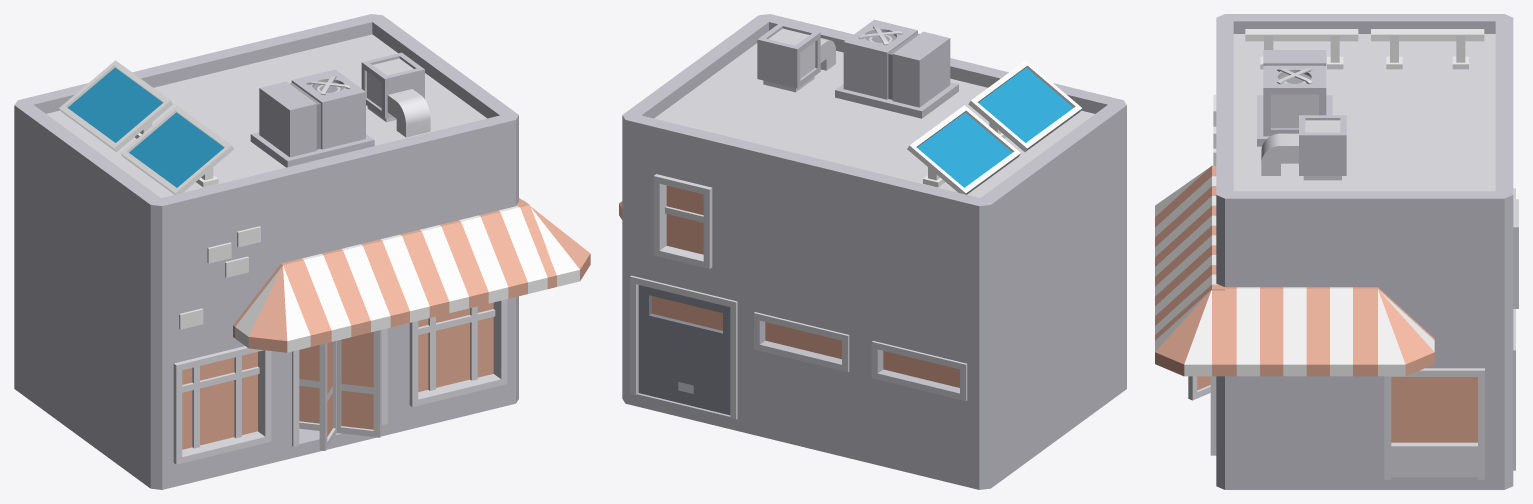
File: house.glb
3 renders of one model, left to right at view 1: azimuth 30°, elevation 25°; view 2: azimuth 150°, elevation 25°; view 3: azimuth 270°, elevation 25°, orthographic. The views are drawn at different scales.
Parts seen in each view (by area): view 1: wall_windowLarge_245, wall_windowLarge_244, wall_straight_216, wall_doorRevolving_231, awning_straight_238, awning_straight_239, wall_straight_215, detail_airLarge_227, roof_corner_223, wall_straight_210, wall_straight_271, wall_straight_214 (+17 smaller); view 2: wall_straight_213, wall_straight_212, wall_window_275, wall_windowFactory_273, wall_windowFactory_274, wall_garageDoorClosed_272, roof_corner_225, roof_side_226, wall_straight_210, wall_straight_214, detail_airLarge_227, roof_corner_224 (+12 smaller); view 3: wall_windowStore_276, wall_straight_220, wall_straight_205, awning_straight_241, roof_corner_225, roof_corner_221, roof_corner_224, wall_straight_219, roof_side_226, roof_corner_223, detail_airLarge_227, awning_corner_242 (+15 smaller).
Boxes of the visible parts, <box> form: wall_windowLarge_245: <box>150,337,279,477</box>; wall_windowLarge_244: <box>398,296,518,419</box>; wall_straight_216: <box>162,202,279,353</box>; wall_doorRevolving_231: <box>280,326,397,450</box>; awning_straight_238: <box>292,232,439,344</box>; awning_straight_239: <box>410,200,555,315</box>; wall_straight_215: <box>82,180,162,354</box>; detail_airLarge_227: <box>250,69,374,167</box>; roof_corner_223: <box>82,149,282,230</box>; wall_straight_210: <box>14,253,82,426</box>; wall_straight_271: <box>82,303,150,475</box>; wall_straight_214: <box>14,130,82,302</box>; wall_straight_213: <box>861,202,990,353</box>; wall_straight_212: <box>743,173,861,325</box>; wall_window_275: <box>625,144,743,296</box>; wall_windowFactory_273: <box>743,297,861,448</box>; wall_windowFactory_274: <box>861,325,979,477</box>; wall_garageDoorClosed_272: <box>625,268,743,419</box>; roof_corner_225: <box>622,64,820,172</box>; roof_side_226: <box>743,105,927,201</box>; wall_straight_210: <box>979,303,1058,477</box>; wall_straight_214: <box>979,180,1058,354</box>; detail_airLarge_227: <box>835,19,958,118</box>; roof_corner_224: <box>858,149,1058,230</box>; wall_windowStore_276: <box>1364,350,1504,479</box>; wall_straight_220: <box>1364,220,1513,350</box>; wall_straight_205: <box>1216,376,1364,477</box>; awning_straight_241: <box>1225,287,1364,376</box>; roof_corner_225: <box>1356,136,1513,223</box>; roof_corner_221: <box>1216,136,1373,223</box>; roof_corner_224: <box>1356,14,1513,92</box>; wall_straight_219: <box>1218,221,1364,287</box>; roof_side_226: <box>1356,77,1513,147</box>; roof_corner_223: <box>1216,14,1373,92</box>; detail_airLarge_227: <box>1257,50,1332,146</box>; awning_corner_242: <box>1364,287,1434,376</box>.
Bounding box in the file's own units: 35.62 × 26.61 × 26.02.
